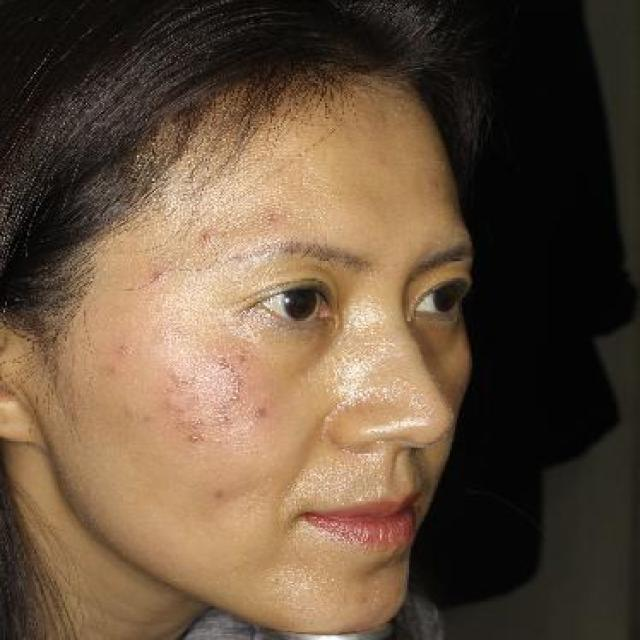dark spot: (207, 338, 252, 377), (216, 375, 255, 417), (242, 395, 282, 431), (144, 257, 178, 294), (257, 203, 291, 232), (185, 423, 209, 452), (113, 335, 137, 360), (95, 358, 126, 377), (198, 223, 214, 252)
